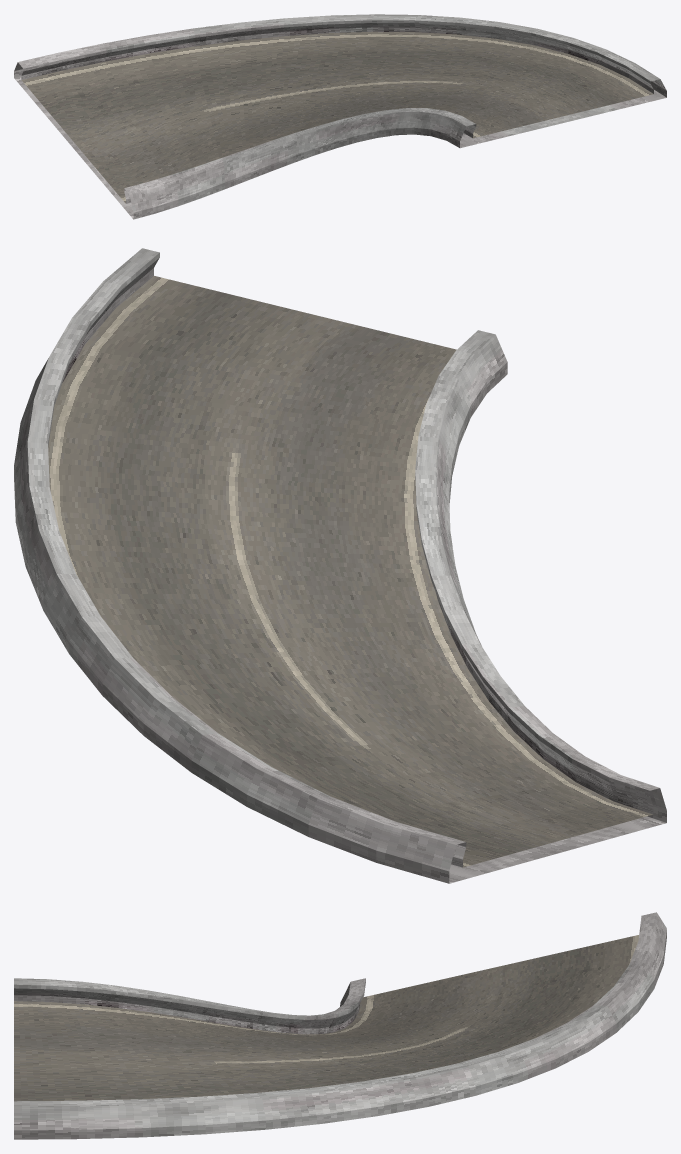
The model's file is road-Turn-Flat-HalfBankedLeft-Down2-Left-Size2.glb.
The picture shows the model from 3 angles, top to bottom: view 1: azimuth 30°, elevation 25°; view 2: azimuth 150°, elevation 25°; view 3: azimuth 270°, elevation 25°; orthographic projection. The views are drawn at different scales.
Parts seen in each view (by area): view 1: road-Turn-Flat-HalfBankedLeft-Down2-Left-Size2; view 2: road-Turn-Flat-HalfBankedLeft-Down2-Left-Size2; view 3: road-Turn-Flat-HalfBankedLeft-Down2-Left-Size2.
Part boxes in pixels (left/top/right/bottom): road-Turn-Flat-HalfBankedLeft-Down2-Left-Size2: left=14, top=14, right=666, bottom=219; road-Turn-Flat-HalfBankedLeft-Down2-Left-Size2: left=14, top=248, right=666, bottom=883; road-Turn-Flat-HalfBankedLeft-Down2-Left-Size2: left=14, top=912, right=666, bottom=1139.
Size of the model in its own units: 2 by 0.5938 by 2.
Materials: 2 (2 with a texture image).
